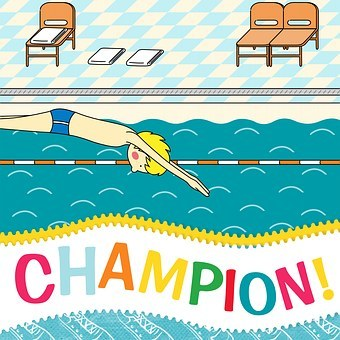chair: (16, 1, 80, 70), (267, 1, 325, 70), (230, 1, 283, 70)
person: (1, 106, 211, 197)
